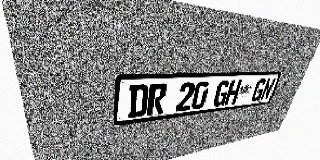0: (190, 81, 210, 110)
2: (176, 82, 196, 112)
D: (127, 84, 149, 118)
G: (212, 80, 231, 107), (250, 78, 267, 102)
H: (224, 80, 242, 105)
N: (259, 78, 276, 101)
R: (147, 83, 168, 116)
